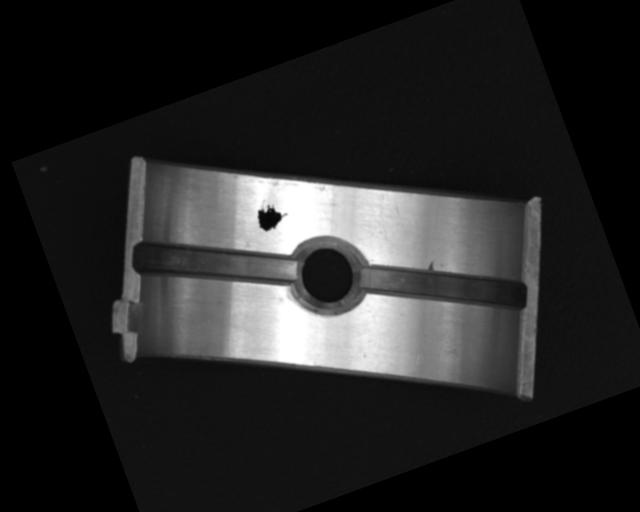blot: (250, 192, 292, 234)
bruise: (424, 259, 437, 273)
gap: (357, 216, 531, 355), (128, 194, 299, 328)
hole: (284, 229, 373, 321)
